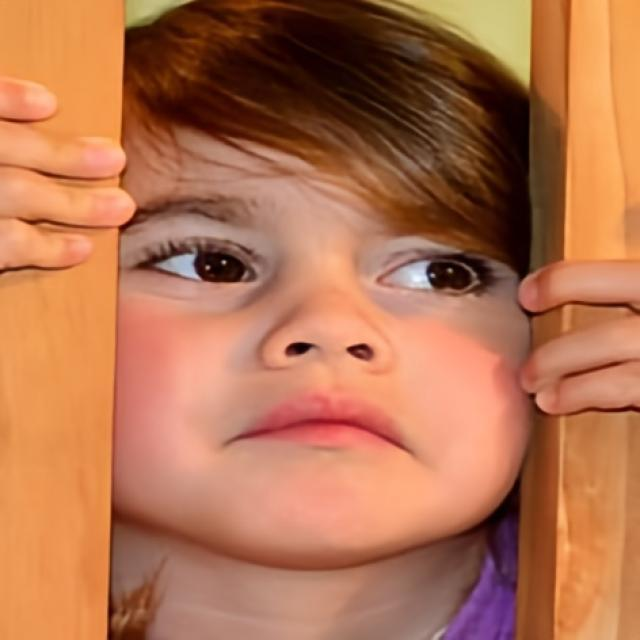neutral: (116, 91, 532, 572)
